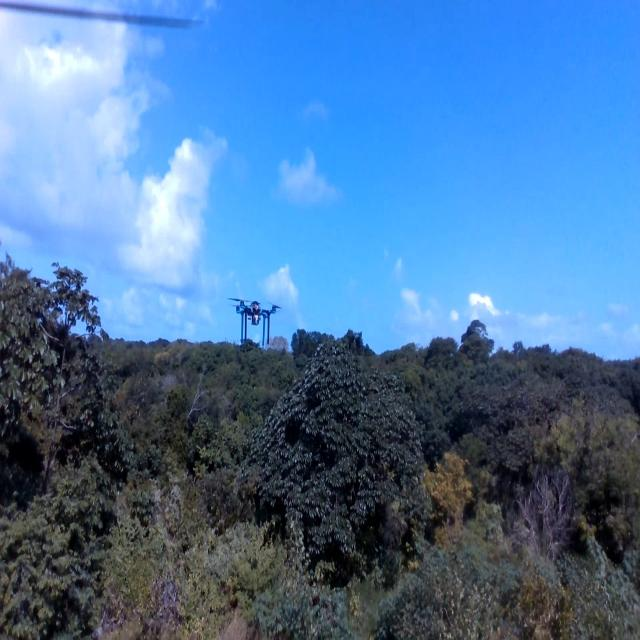-uav-: (227, 285, 285, 354)
